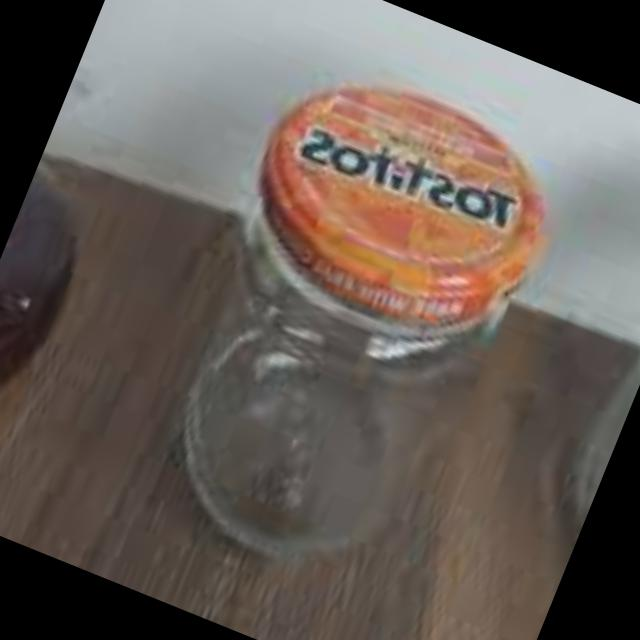ToplesKaca: (121, 42, 578, 609)
